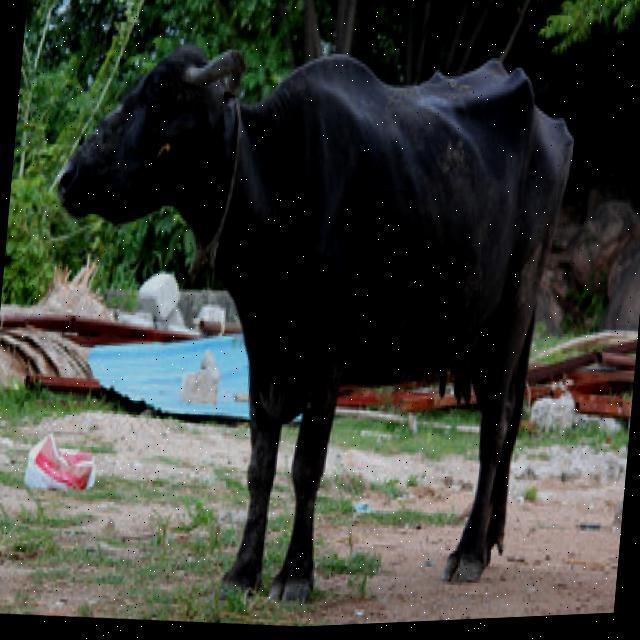Buffalo: (16, 12, 583, 628)
